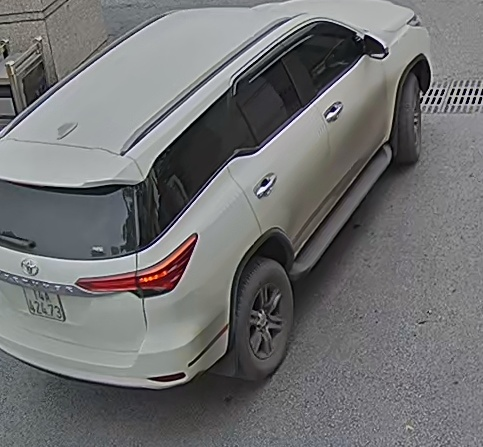vehicle plate: (22, 279, 68, 325)
